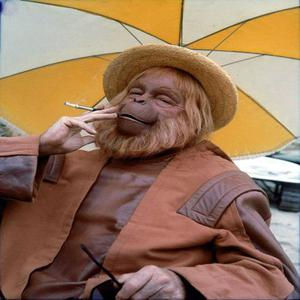cigarette: (63, 102, 82, 111)
